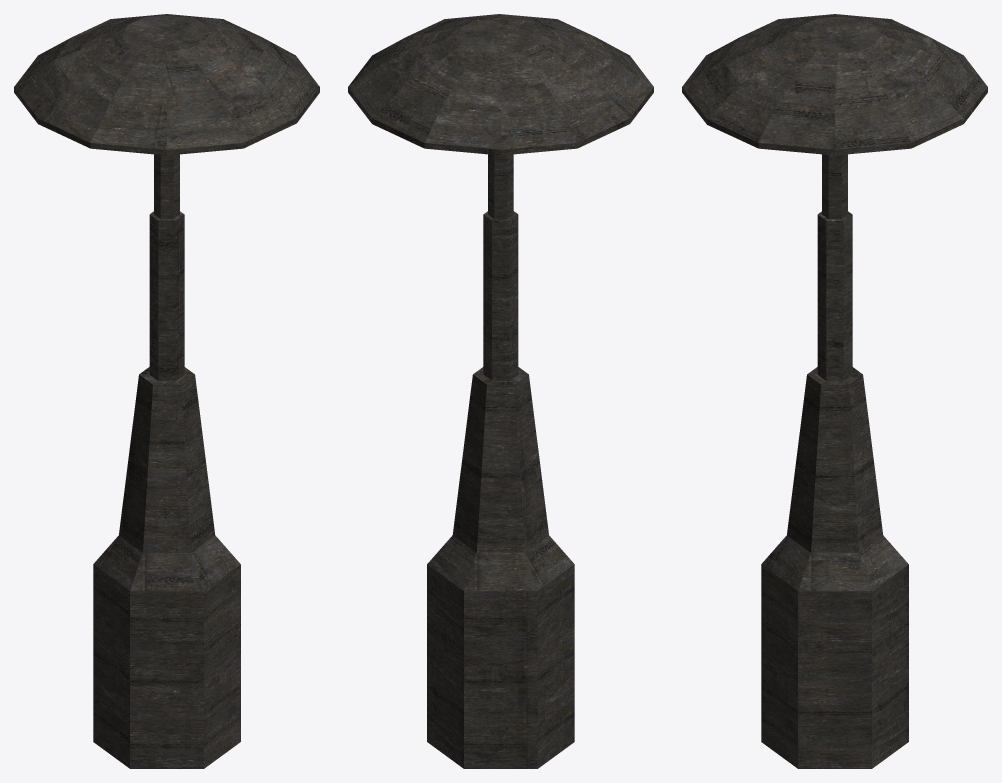
File: Relay.glb
3 views of the same model, side by side, from view 1: azimuth 30°, elevation 25°; view 2: azimuth 150°, elevation 25°; view 3: azimuth 270°, elevation 25° (orthographic).
Visible parts, largest first — view 1: Base, Head, Pole1, Pole2; view 2: Base, Head, Pole1, Pole2; view 3: Base, Head, Pole1, Pole2.
Part boxes in pixels (x1=…): Base: x1=93, y1=367, x2=240, y2=768; Head: x1=14, y1=14, x2=319, y2=155; Pole1: x1=149, y1=211, x2=184, y2=380; Pole2: x1=154, y1=154, x2=179, y2=218; Base: x1=427, y1=367, x2=574, y2=768; Head: x1=348, y1=14, x2=653, y2=155; Pole1: x1=483, y1=211, x2=518, y2=380; Pole2: x1=488, y1=154, x2=513, y2=219; Base: x1=761, y1=367, x2=908, y2=768; Head: x1=682, y1=14, x2=987, y2=155; Pole1: x1=817, y1=211, x2=852, y2=380; Pole2: x1=822, y1=154, x2=847, y2=219.
Bounding box in the file's own units: 0.9523 × 2.5 × 0.9784.
Materials: 1 (1 with a texture image).
